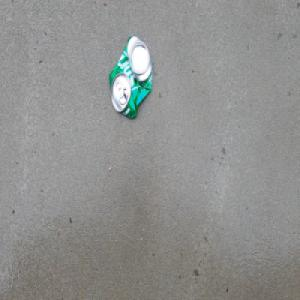SodaCan: (107, 34, 153, 121)
